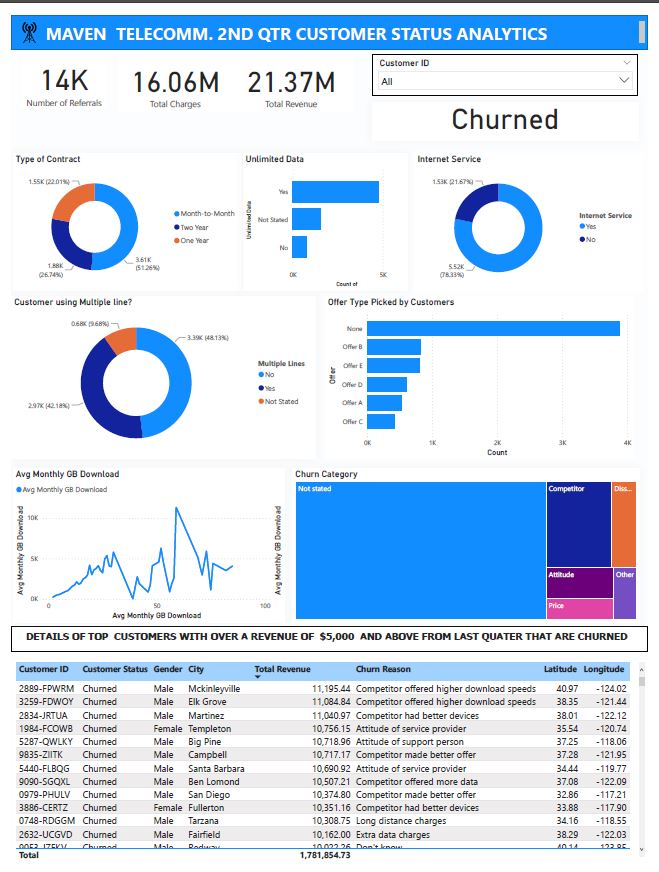

What the dashboard file says about the page in this screenshot:
{"tool":"powerbi","page":{"name":"Page 1","canvas":[1200,1600],"ordinal":0},"visuals":[{"type":"card","fields":{"Values":["Min(telecom_customer_churn.Customer Status)"]},"box":[681.7,163.3,501.7,71.7],"z":0},{"type":"shape","box":[0,1152,1200,48],"z":1000},{"type":"card","fields":{"Values":["Sum(telecom_customer_churn.Number of Referrals)"]},"box":[18,74,160,100],"z":2000},{"type":"barChart","title":"Offer Type Picked by Customers","fields":{"Category":["telecom_customer_churn.Offer"],"Y":["CountNonNull(telecom_customer_churn.Offer)"]},"box":[591.7,530,581.7,306.7],"z":3000},{"type":"donutChart","title":"Customer using Multiple line?","fields":{"Category":["telecom_customer_churn.Multiple Lines"],"Y":["CountNonNull(telecom_customer_churn.Multiple Lines)"]},"box":[0,530,573.8,306.2],"z":4000},{"type":"lineChart","title":"Avg Monthly GB Download","fields":{"Category":["telecom_customer_churn.Avg Monthly GB Download"],"Y":["Sum(telecom_customer_churn.Avg Monthly GB Download)"],"Y2":["Sum(telecom_customer_churn.Avg Monthly GB Download)"]},"box":[4,854,512,290],"z":5000},{"type":"donutChart","title":"Type of Contract","fields":{"Category":["telecom_customer_churn.Contract"],"Y":["CountNonNull(telecom_customer_churn.Contract)"]},"box":[4,260,432,258],"z":6000},{"type":"slicer","fields":{"Values":["telecom_customer_churn.Customer ID"]},"box":[681.8,73.6,501.8,78.2],"z":7000},{"type":"card","fields":{"Values":["Sum(telecom_customer_churn.Total Charges)"]},"box":[204,74,210,106],"z":8000},{"type":"card","fields":{"Values":["Sum(telecom_customer_churn.Total Revenue)"]},"box":[414,74,230,106],"z":9000},{"type":"tableEx","fields":{"Values":["telecom_customer_churn.Customer ID","telecom_customer_churn.Customer Status","telecom_customer_churn.Gender","telecom_customer_churn.City","telecom_customer_churn.Total Revenue for Churned","telecom_customer_churn.Churn Reason","Sum(telecom_customer_churn.Latitude)","Sum(telecom_customer_churn.Longitude)"]},"box":[4,1216,1196,384],"z":10000},{"type":"treemap","title":"Churn Category","fields":{"Group":["telecom_customer_churn.Churn Category"],"Values":["CountNonNull(telecom_customer_churn.Churn Reason)"]},"box":[530,854,654,290],"z":11000},{"type":"clusteredBarChart","title":"Unlimited Data","fields":{"Category":["telecom_customer_churn.Unlimited Data"],"Y":["CountNonNull(telecom_customer_churn.Unlimited Data)"]},"box":[436,260,310,258],"z":12000},{"type":"donutChart","title":" Internet Service","fields":{"Category":["telecom_customer_churn.Internet Service"],"Y":["CountNonNull(telecom_customer_churn.Internet Service)"]},"box":[761.8,260,429.1,261.8],"z":13000},{"type":"shape","box":[0,0,1200,64],"z":14000},{"type":"textbox","box":[4.3,1155.7,1178.6,34.3],"z":15000},{"type":"image","box":[5,5,55,51.7],"z":16000},{"type":"textbox","box":[60,5,1140,51.7],"z":17000},{"type":"shape","box":[900.9,1573.6,264.5,26.4],"z":18000}]}

Visuals, with their boxes in screenshot pixels (x1, y1, x2, y2), scaled from the page's 1200x1600 canvas onto the 659x872 screenshot:
card - Min(telecom_customer_churn.Customer Status): [374, 89, 650, 128]
shape: [0, 628, 658, 654]
card - Sum(telecom_customer_churn.Number of Referrals): [10, 40, 98, 95]
"Offer Type Picked by Customers" barChart: [325, 289, 644, 456]
"Customer using Multiple line?" donutChart: [0, 289, 315, 456]
"Avg Monthly GB Download" lineChart: [2, 465, 283, 623]
"Type of Contract" donutChart: [2, 142, 239, 282]
slicer - telecom_customer_churn.Customer ID: [374, 40, 650, 83]
card - Sum(telecom_customer_churn.Total Charges): [112, 40, 227, 98]
card - Sum(telecom_customer_churn.Total Revenue): [227, 40, 354, 98]
tableEx - telecom_customer_churn.Customer ID x telecom_customer_churn.Customer Status: [2, 663, 658, 871]
"Churn Category" treemap: [291, 465, 650, 623]
"Unlimited Data" clusteredBarChart: [239, 142, 410, 282]
" Internet Service" donutChart: [418, 142, 654, 284]
shape: [0, 0, 658, 35]
textbox: [2, 630, 650, 649]
image: [3, 3, 33, 31]
textbox: [33, 3, 658, 31]
shape: [495, 858, 640, 871]
